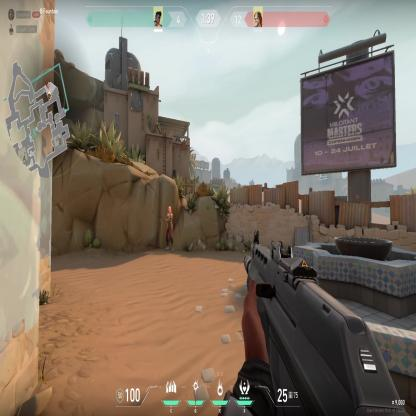enemy: (164, 204, 174, 252)
